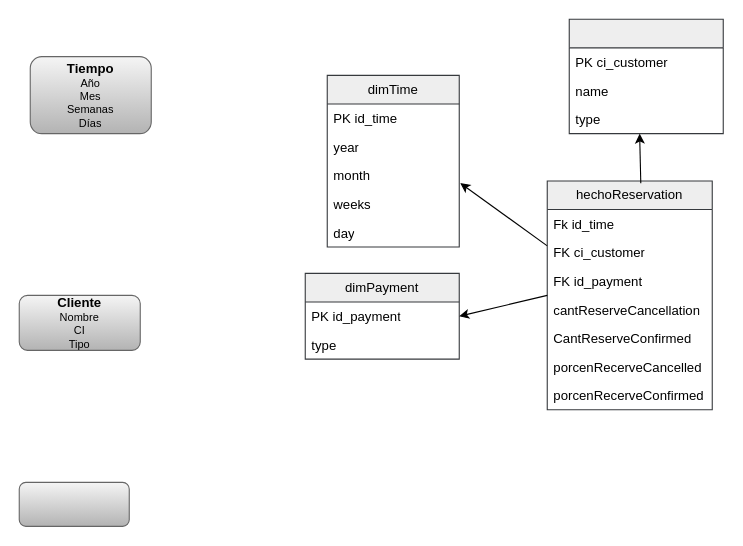
The diagram is 743 pixels wide and 546 high, and some of its shapes have lost their labels. Each missing label, with the box of its shape:
dimCustomer: (568, 18, 723, 134)
pago Tipo: (18, 481, 129, 526)
